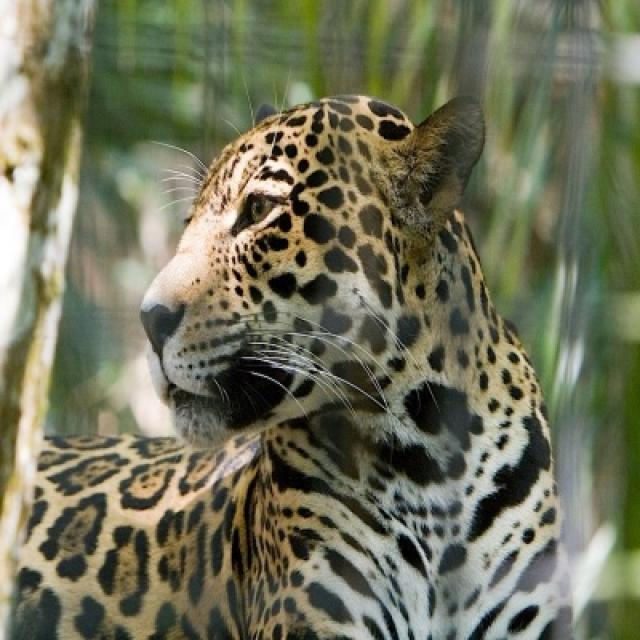Jaguar: (6, 91, 572, 638)
